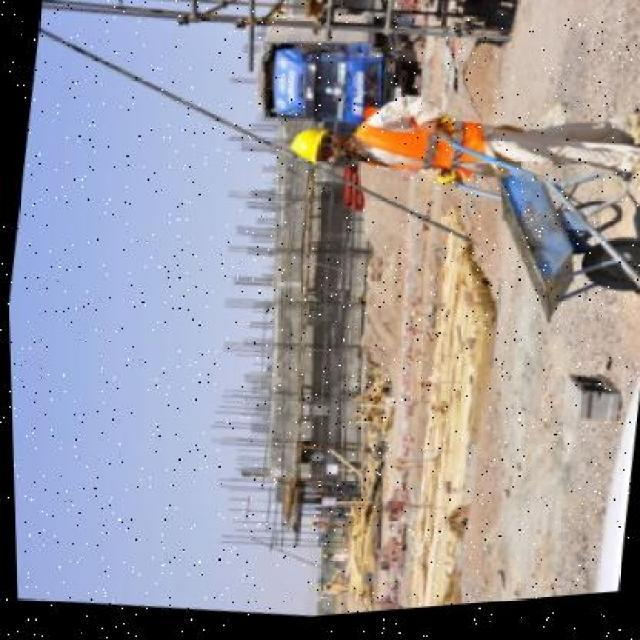helmet: (278, 122, 332, 174)
vest: (350, 102, 487, 186)
